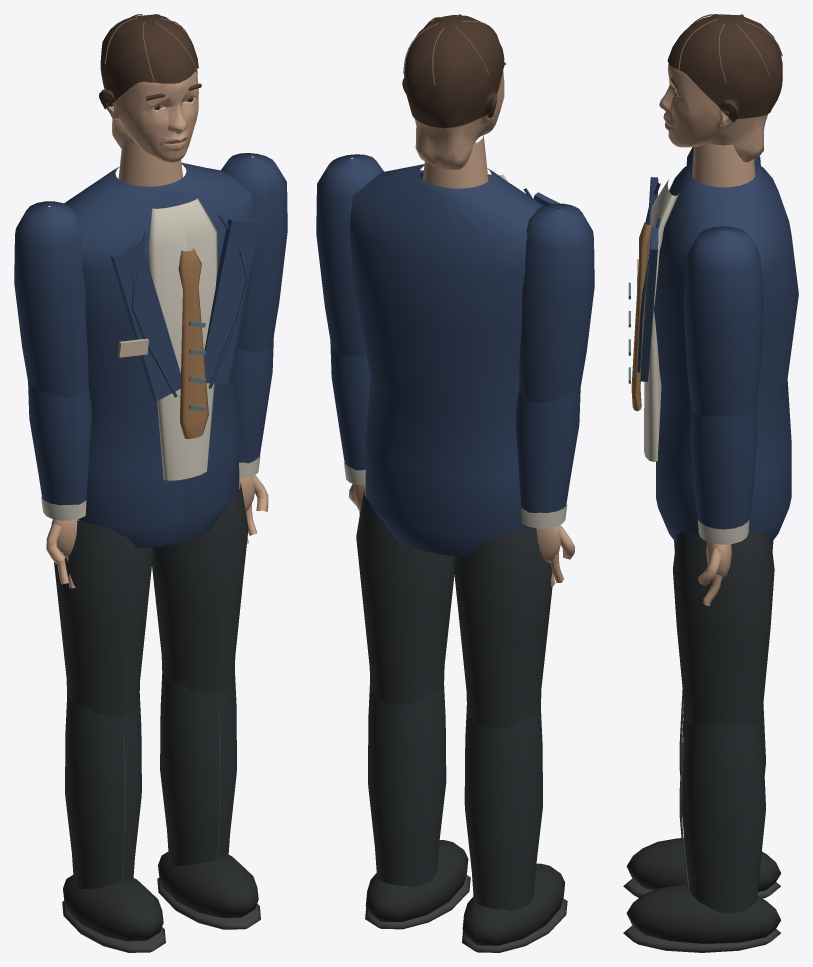
The model's file is saul-goodman.glb.
3 renders of one model, left to right at view 1: azimuth 30°, elevation 25°; view 2: azimuth 150°, elevation 25°; view 3: azimuth 270°, elevation 25°, orthographic.
Visible parts, largest first — view 1: Torso, TrouserThigh (×2), TrouserCalf (×2), TailoredSleeve (×2), ShirtFront, Forearm (×2), Shoe (×2), Head, AnatomicalFace, Tie, Sole (×2), Neck (+3 smaller); view 2: Torso, TrouserThigh (×2), TrouserCalf (×2), TailoredSleeve (×2), Forearm (×2), Head, Shoe (×2), AnatomicalFace, Sole (×2), Neck, LeftHand, Cuff; view 3: Torso, TrouserThigh, TrouserCalf, TailoredSleeve, Shoe (×2), Head, Forearm, AnatomicalFace, ShirtFront, Neck, Sole (×2), Tie (+3 smaller).
Boxes of the visible parts, box(x1,y1,x2,y2) form: Torso: box(64, 163, 260, 548); TrouserThigh (×2): box(54, 482, 248, 717); TrouserCalf (×2): box(65, 671, 236, 889); TailoredSleeve (×2): box(14, 153, 287, 397); ShirtFront: box(148, 197, 217, 480); Forearm (×2): box(28, 336, 273, 505); Shoe (×2): box(63, 852, 258, 941); Head: box(99, 14, 201, 109); AnatomicalFace: box(106, 69, 198, 162); Tie: box(178, 248, 208, 438); Sole (×2): box(62, 877, 260, 952); Neck: box(118, 137, 182, 186); Torso: box(349, 164, 559, 556); TrouserThigh (×2): box(356, 489, 552, 728); TrouserCalf (×2): box(368, 681, 542, 911); TailoredSleeve (×2): box(316, 154, 594, 403); Forearm (×2): box(330, 341, 580, 512); Head: box(402, 14, 505, 127); Shoe (×2): box(365, 840, 565, 945); AnatomicalFace: box(415, 70, 504, 169); Sole (×2): box(365, 875, 567, 952); Neck: box(423, 135, 488, 188); LeftHand: box(536, 525, 574, 586); Cuff: box(521, 504, 567, 528); Torso: box(628, 162, 798, 541); TrouserThigh: box(673, 530, 774, 726); TrouserCalf: box(681, 718, 765, 913); TailoredSleeve: box(683, 226, 763, 416); Shoe (×2): box(626, 838, 781, 943); Head: box(667, 14, 782, 121); Forearm: box(690, 409, 756, 529); AnatomicalFace: box(659, 64, 767, 162); ShirtFront: box(644, 179, 679, 461); Neck: box(692, 143, 755, 187); Sole (×2): box(623, 878, 780, 952); Tie: box(631, 222, 650, 411).
Size of the model in its own units: 0.5433 by 1.76 by 0.311.
